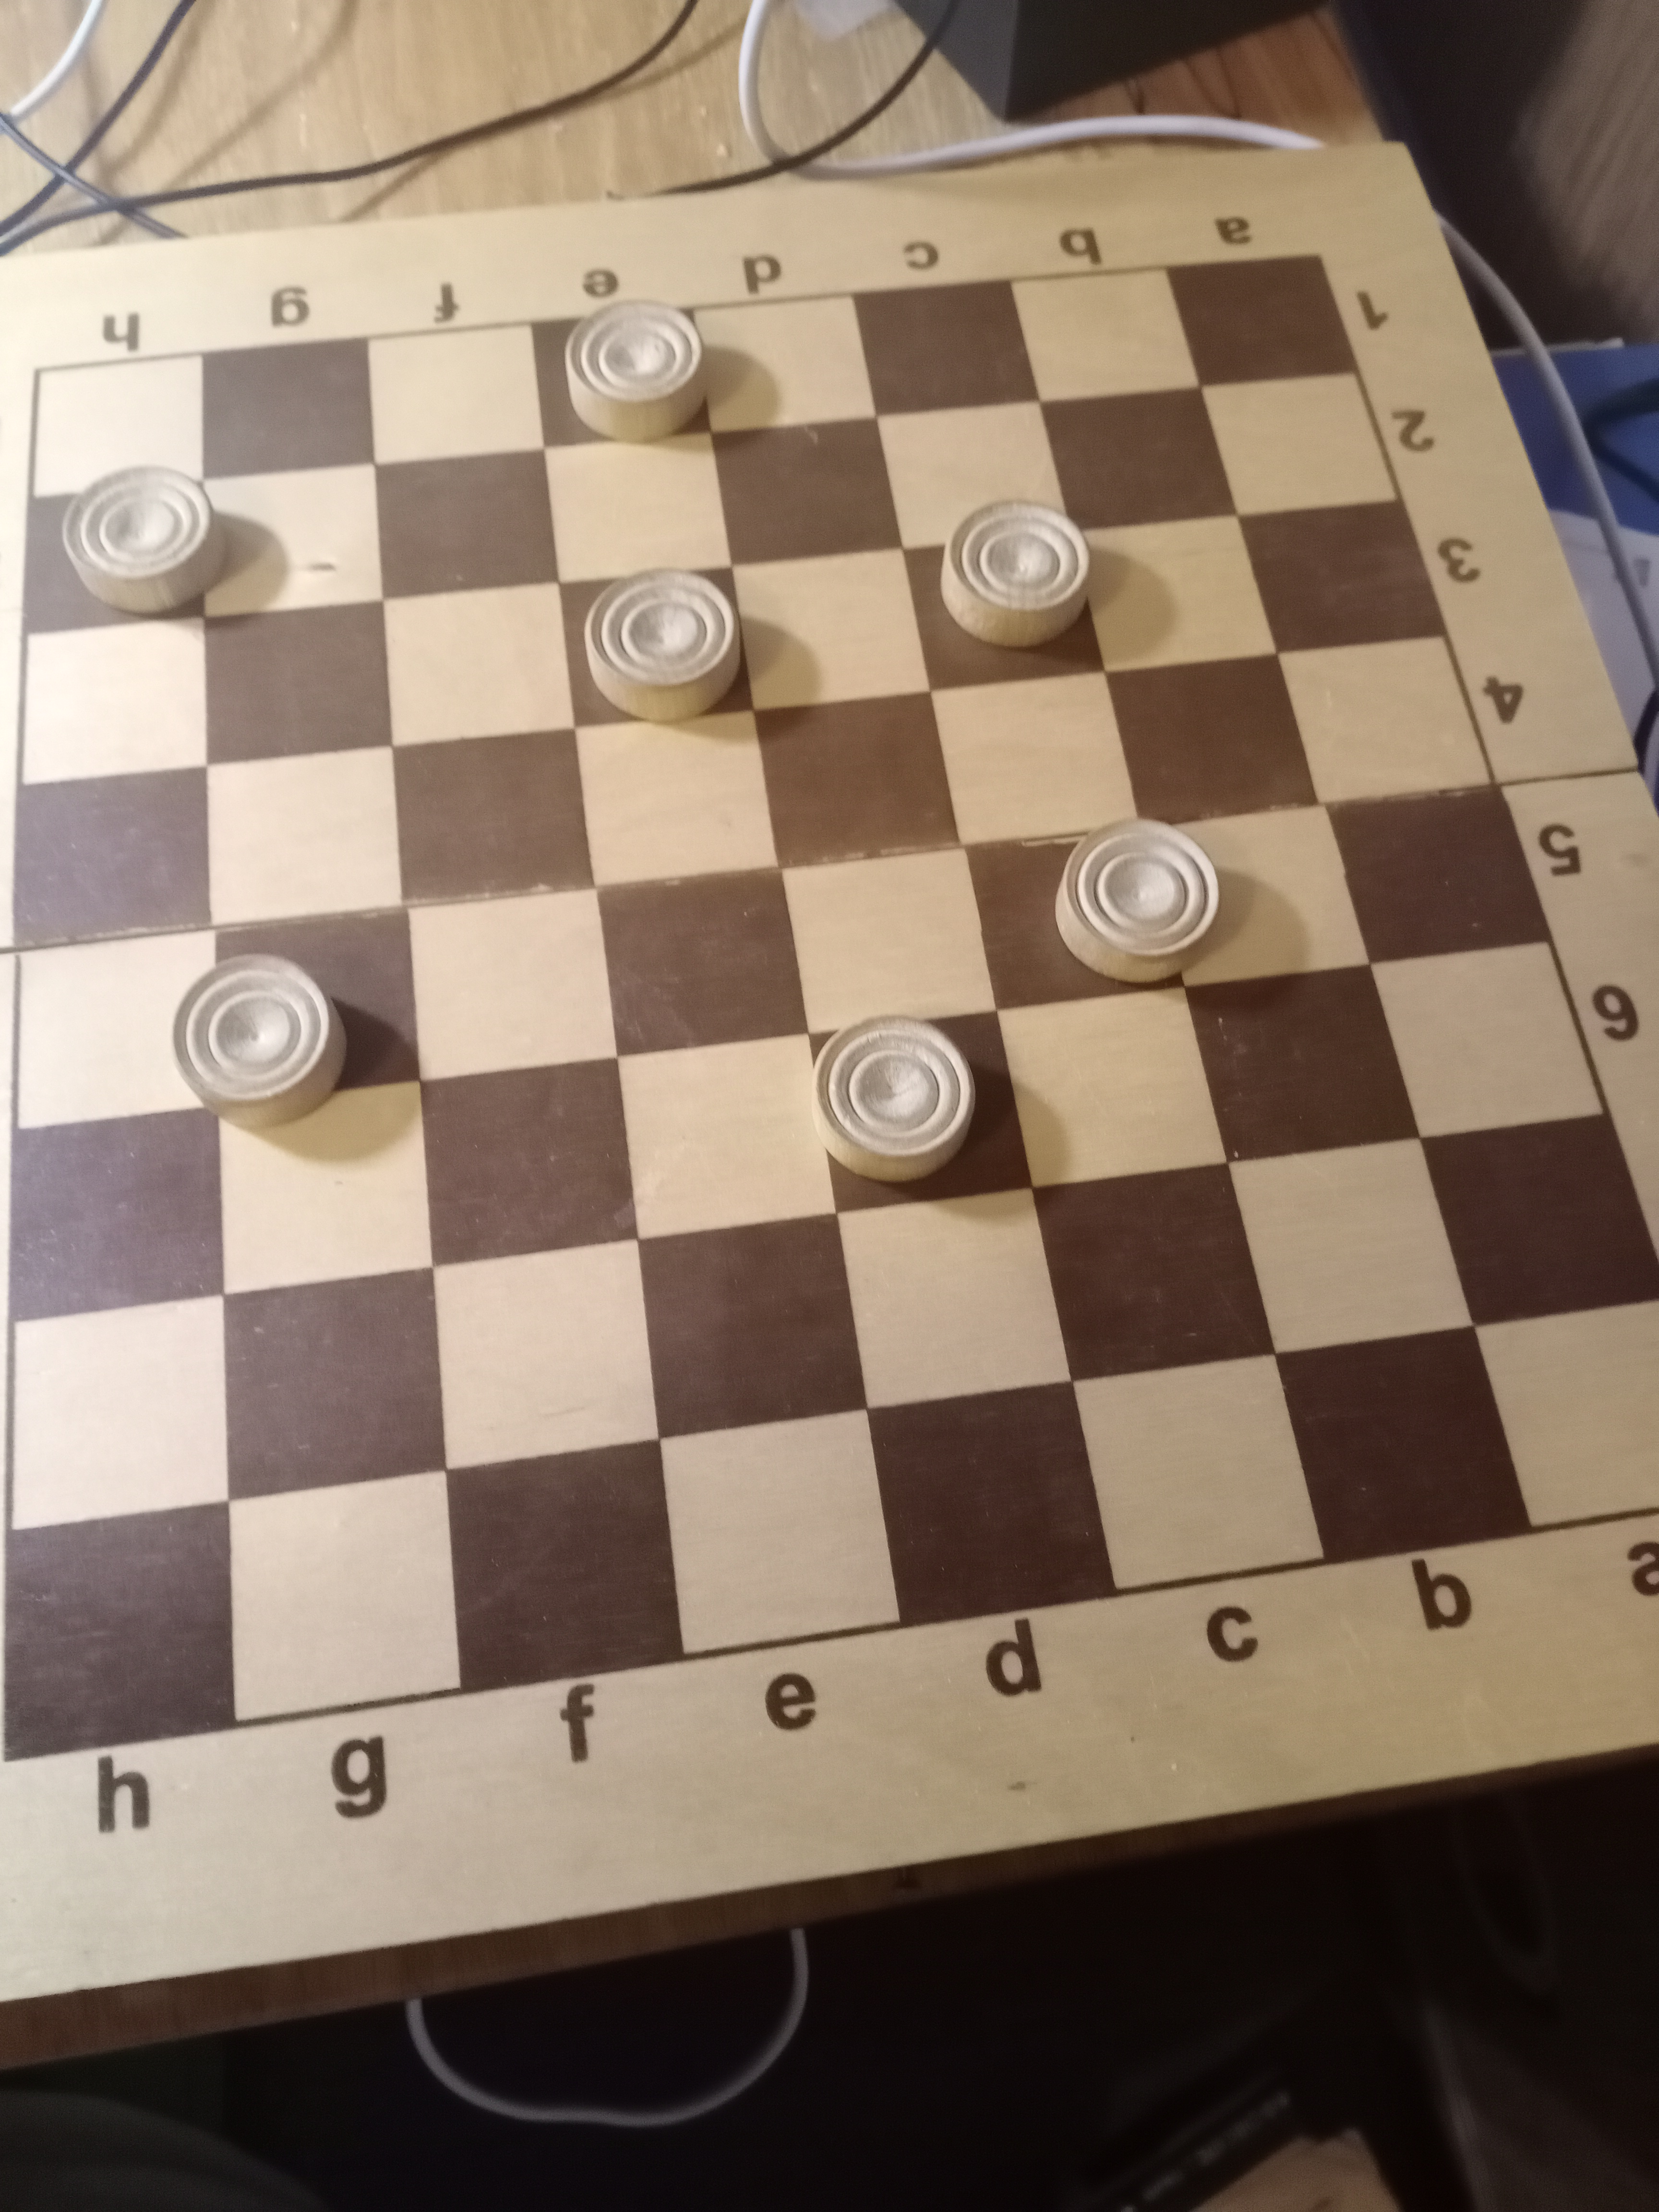White_Draught: (173, 909, 420, 1123), (965, 817, 1222, 1012), (809, 1014, 1033, 1212), (901, 502, 1107, 691), (28, 467, 223, 634), (559, 566, 755, 728), (532, 301, 711, 451)
